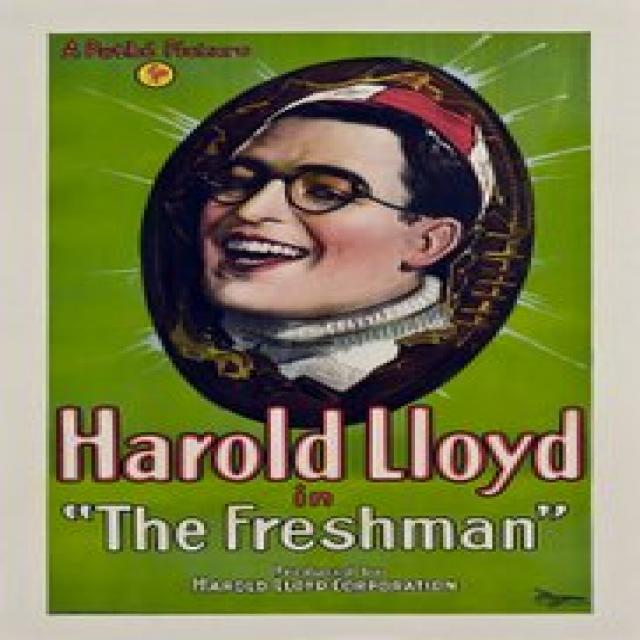movie-judul: (49, 401, 592, 600)
picture: (45, 33, 598, 437)
